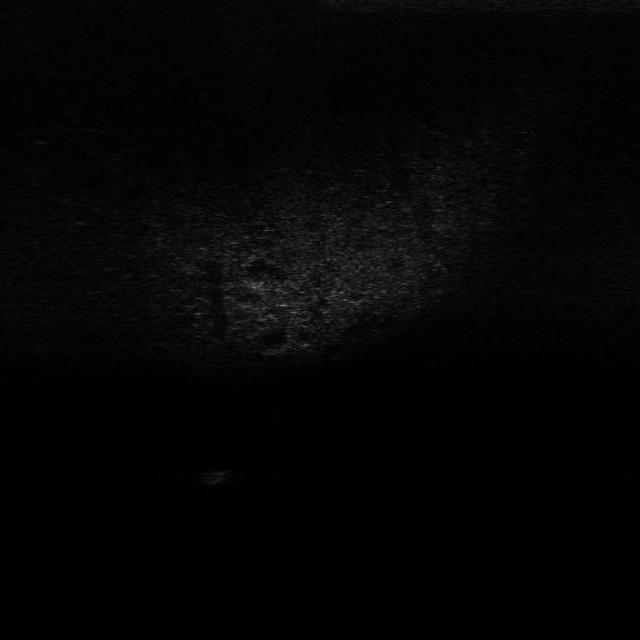cylinder: (208, 466, 231, 488)
